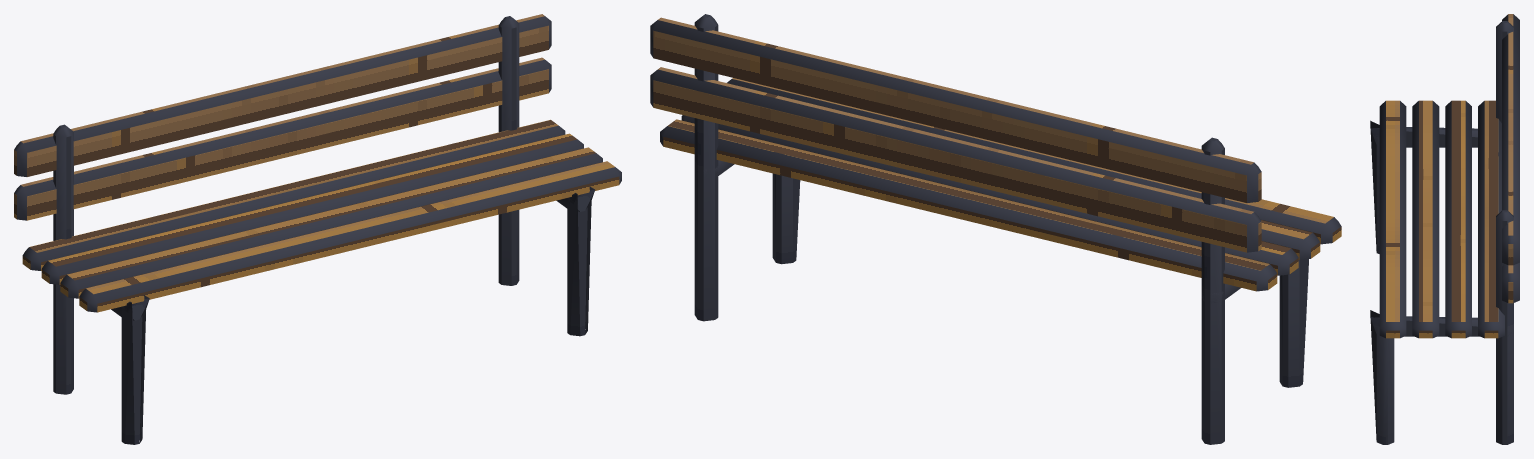
Rendered from modern_bench_0.glb.
3 renders of one model, left to right at view 1: azimuth 30°, elevation 25°; view 2: azimuth 150°, elevation 25°; view 3: azimuth 270°, elevation 25°, orthographic. The views are drawn at different scales.
Visible parts, largest first — view 1: modern_bench_1; view 2: modern_bench_1; view 3: modern_bench_1.
Boxes of the visible parts, x1=… form: modern_bench_1: x1=14, y1=14, x2=621, y2=444; modern_bench_1: x1=650, y1=14, x2=1341, y2=444; modern_bench_1: x1=1370, y1=14, x2=1519, y2=444.
Bounding box in the file's own units: 1.8 × 0.85 × 0.5016.
Materials: 2 (2 with a texture image).
